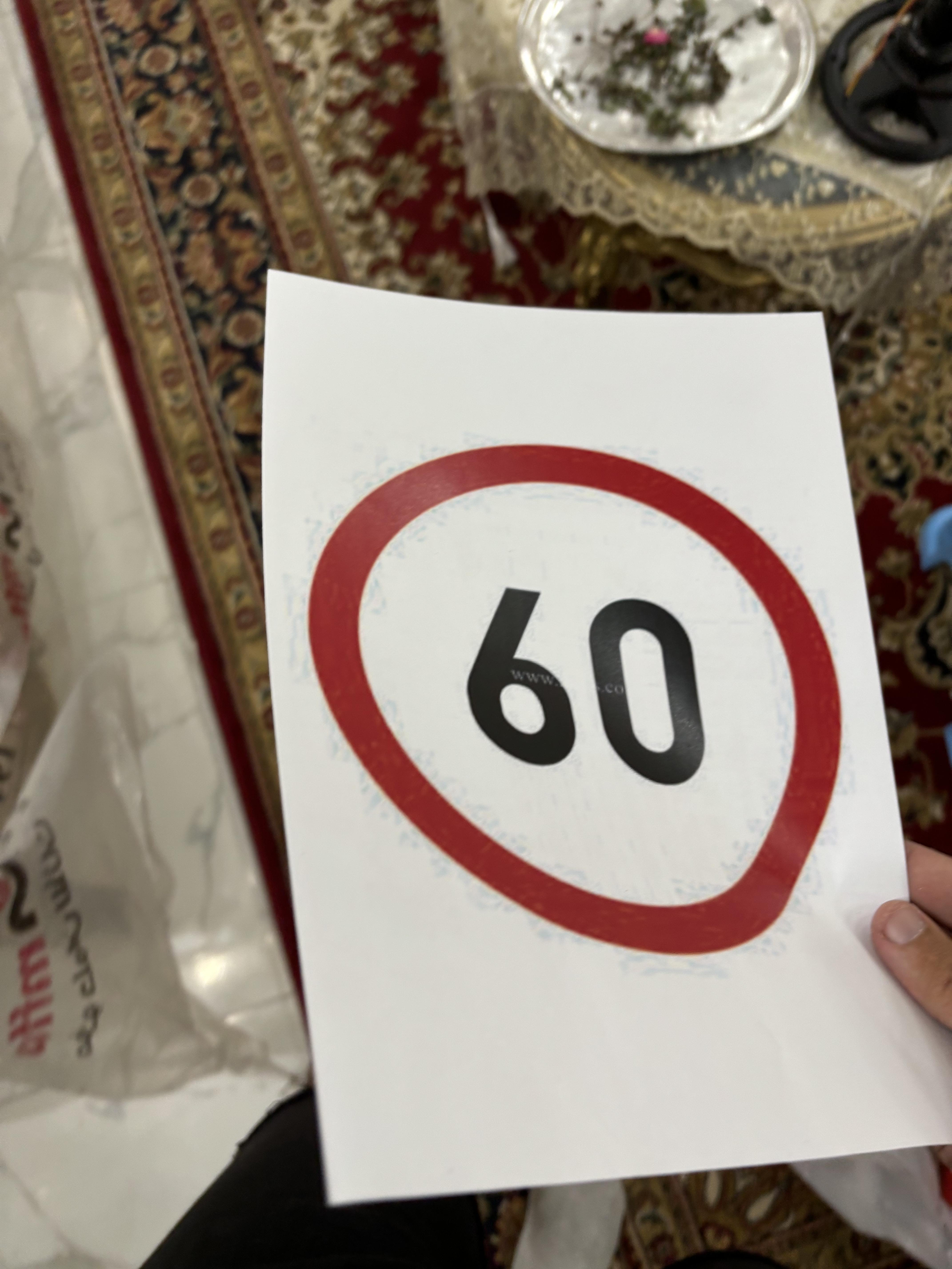60-Speed: (305, 429, 859, 966)
